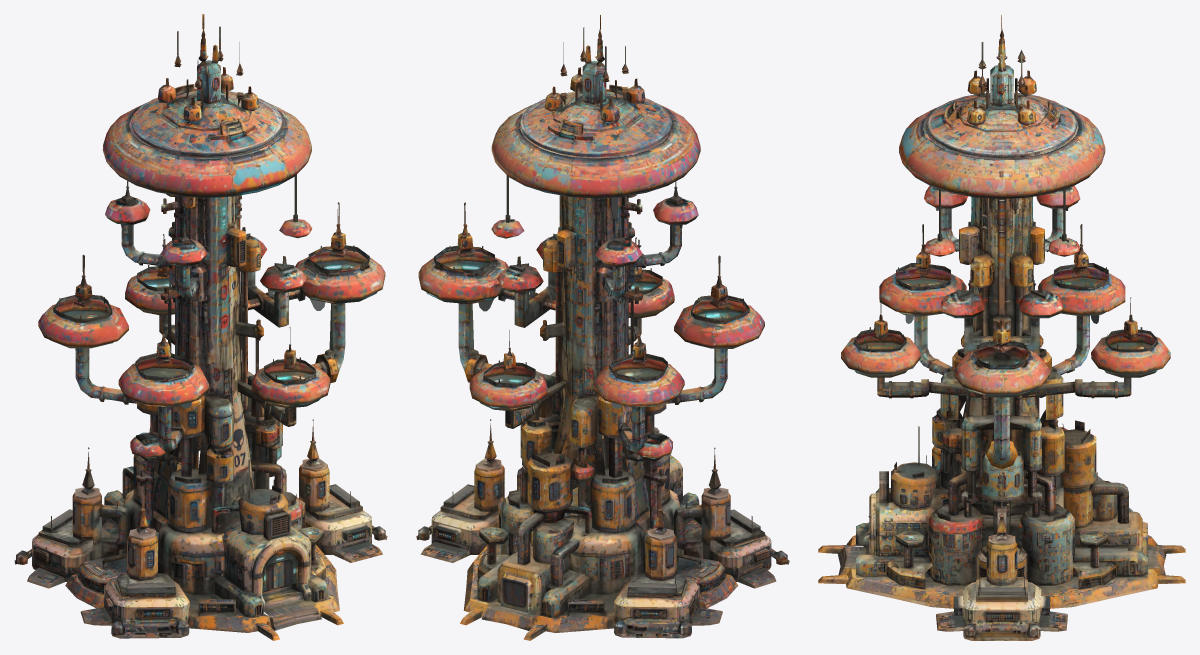
File: alien_tower_01.glb
The picture shows the model from 3 angles, left to right: view 1: azimuth 30°, elevation 25°; view 2: azimuth 150°, elevation 25°; view 3: azimuth 270°, elevation 25°; orthographic projection.
Visible parts, largest first — view 1: alien_tower_01; view 2: alien_tower_01; view 3: alien_tower_01.
Part boxes in pixels (x1,y1,x2,y2): alien_tower_01: (14, 14, 387, 640); alien_tower_01: (416, 15, 789, 640); alien_tower_01: (818, 15, 1185, 640).
Bounding box in the file's own units: 0.6089 × 0.9995 × 0.6098.
1 material, 1 textured.
